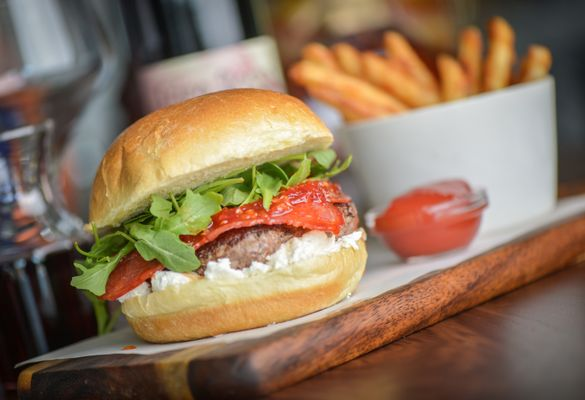soup: (68, 88, 368, 344)
sushi: (340, 74, 561, 254)
